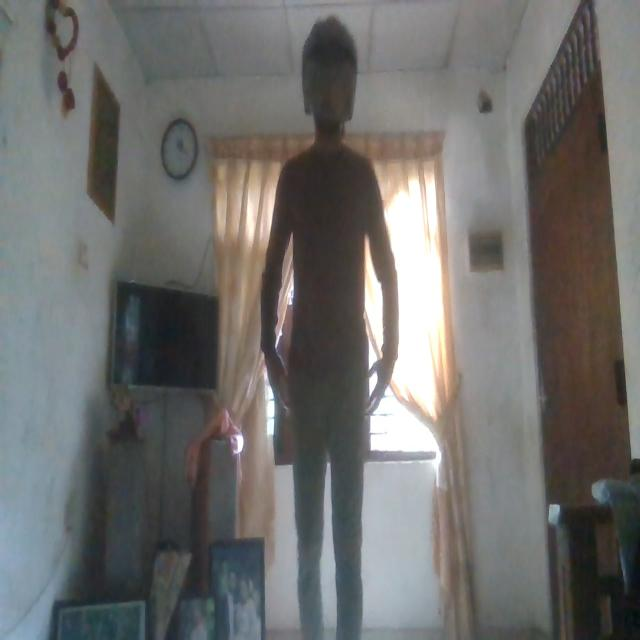Helmet_Wearer: (297, 20, 367, 146)
Person: (261, 17, 412, 640)
